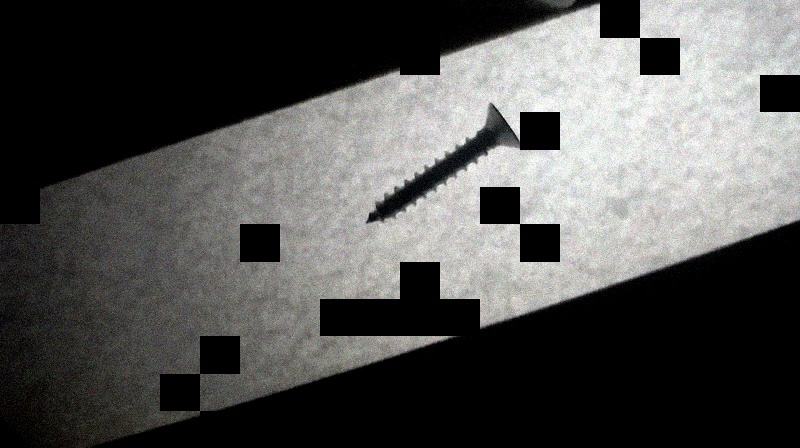S001: (363, 100, 524, 228)
